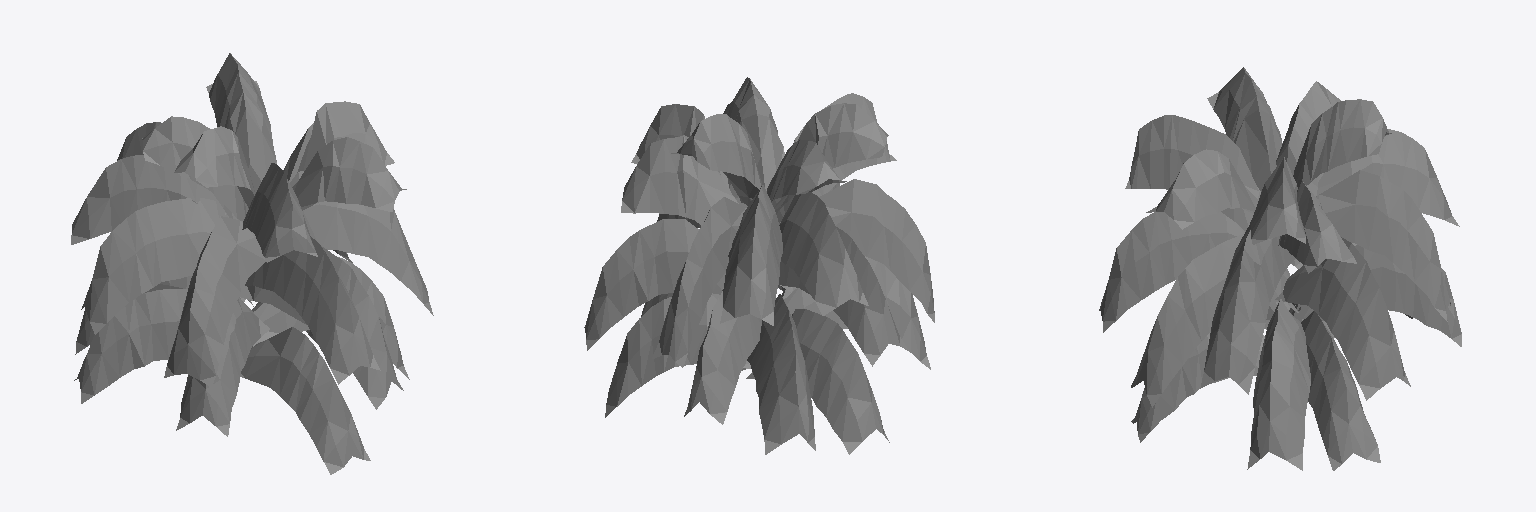
The model's file is Leaf2.obj.
3 renders of one model, left to right at view 1: azimuth 30°, elevation 25°; view 2: azimuth 150°, elevation 25°; view 3: azimuth 270°, elevation 25°, orthographic.
Parts seen in each view (by area): view 1: COCO_03; view 2: COCO_03; view 3: COCO_03.
Part boxes in pixels (left/top/right/bottom): COCO_03: left=71, top=53, right=433, bottom=474; COCO_03: left=584, top=77, right=934, bottom=454; COCO_03: left=1099, top=67, right=1461, bottom=470.
Size of the model in its own units: 1356 by 1418 by 1416.